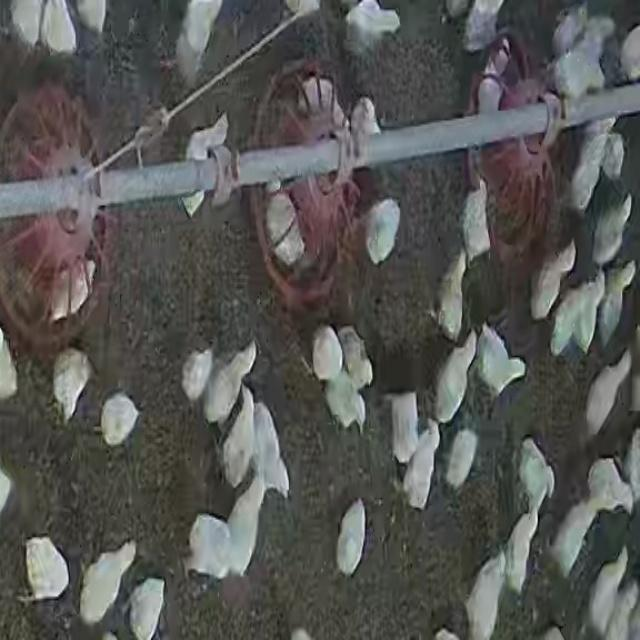chicken: (476, 316, 532, 408), (201, 339, 257, 429), (582, 348, 632, 443), (78, 544, 134, 624), (228, 470, 268, 581), (549, 272, 601, 356), (433, 331, 480, 423), (16, 532, 71, 608), (549, 497, 600, 575), (530, 240, 576, 324), (584, 547, 630, 628), (220, 386, 257, 486), (252, 400, 290, 497), (464, 554, 507, 638), (47, 257, 100, 325), (332, 493, 372, 580), (401, 426, 441, 509), (591, 188, 632, 267), (502, 508, 542, 588), (52, 348, 93, 426), (595, 264, 633, 348), (517, 435, 555, 513), (588, 455, 636, 516), (362, 196, 402, 267), (459, 177, 493, 259), (437, 250, 469, 334), (324, 372, 367, 431), (98, 391, 140, 448), (389, 392, 422, 464), (443, 428, 478, 493), (128, 578, 166, 636), (180, 346, 214, 405), (312, 324, 344, 384)
